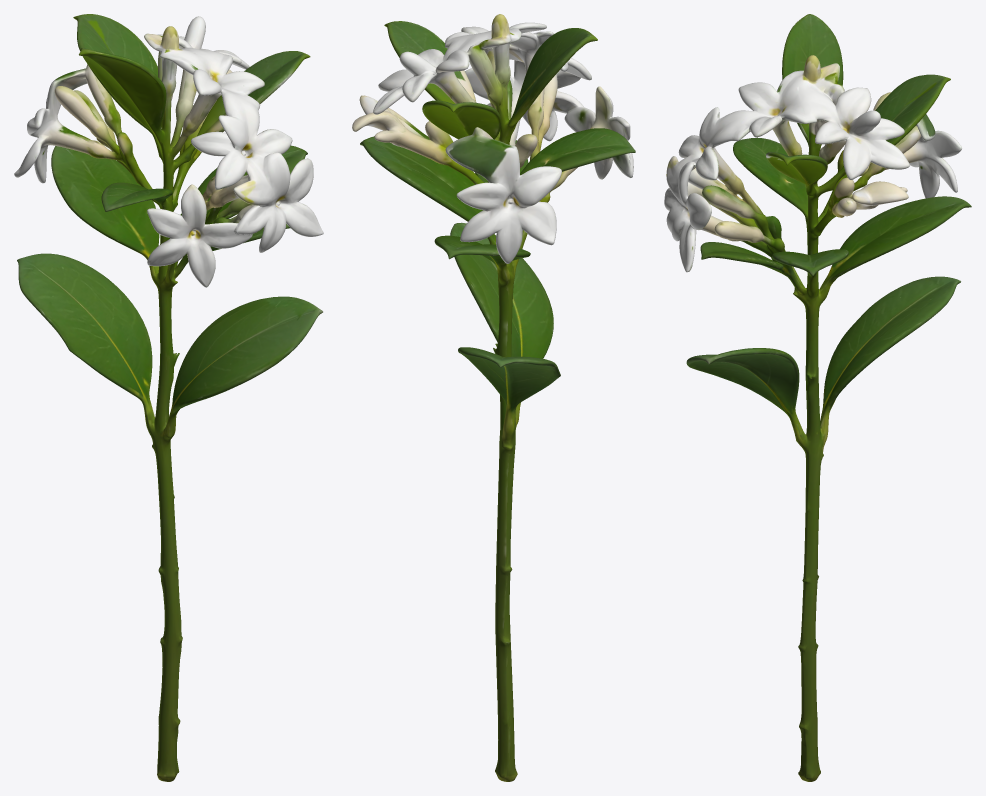
3 views of the same model, side by side, from view 1: azimuth 30°, elevation 25°; view 2: azimuth 150°, elevation 25°; view 3: azimuth 270°, elevation 25° (orthographic). The views are drawn at different scales.
Visible parts, largest first — view 1: node_0; view 2: node_0; view 3: node_0.
Boxes of the visible parts, x1,y1,x2,y2 form: node_0: (14, 14, 323, 781); node_0: (352, 14, 635, 781); node_0: (664, 14, 971, 781).
Bounding box in the file's own units: 0.3868 × 1.15 × 0.4399.
Materials: 1 (1 with a texture image).
